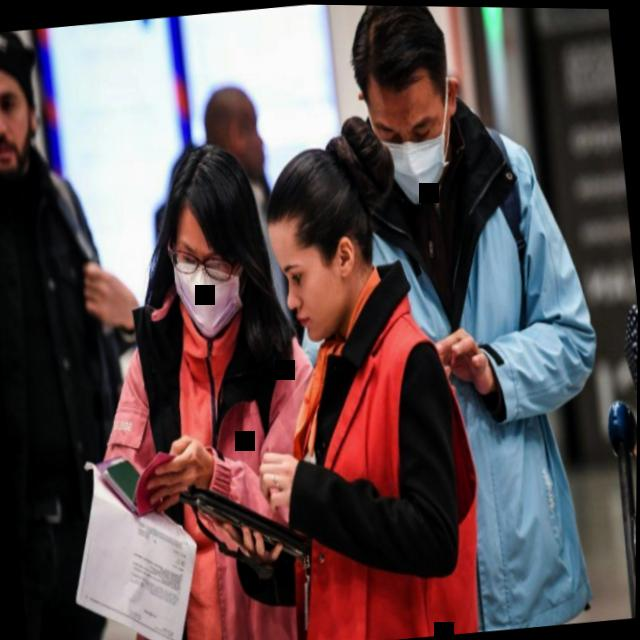Mask: (154, 130, 274, 347), (347, 4, 469, 213)
NO-Mask: (259, 107, 393, 354), (0, 27, 57, 177)
